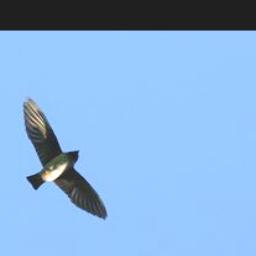Swallow: (20, 96, 104, 222)
